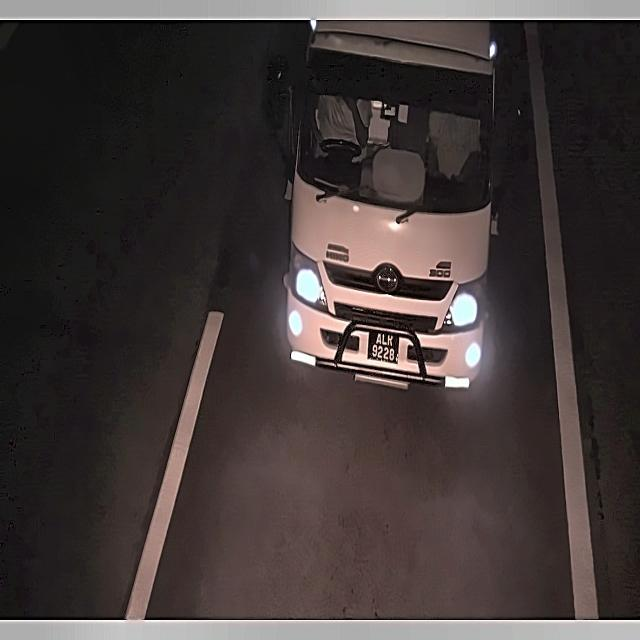car: (364, 327, 407, 370)
